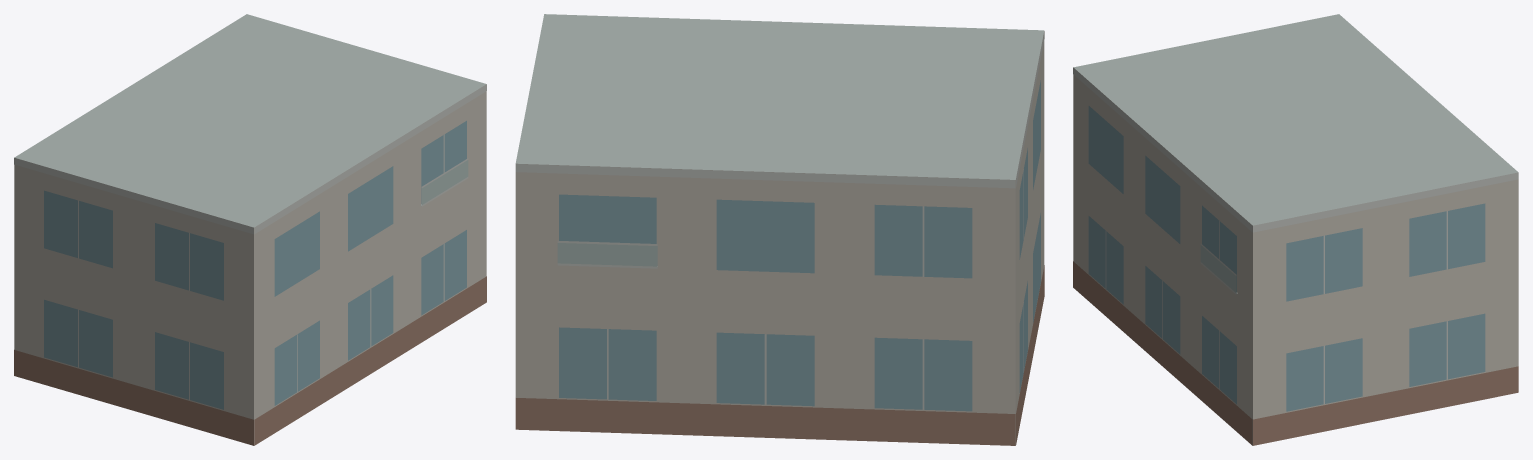
Rendered from survey-upis-32958675.glb.
3 views of the same model, side by side, from view 1: azimuth 30°, elevation 25°; view 2: azimuth 150°, elevation 25°; view 3: azimuth 270°, elevation 25° (orthographic). The views are drawn at different scales.
Visible parts, largest first — view 1: survey-upis-32958675.tmp; view 2: survey-upis-32958675.tmp; view 3: survey-upis-32958675.tmp.
Boxes of the visible parts, bbox=[...] form: survey-upis-32958675.tmp: bbox=[14, 14, 486, 445]; survey-upis-32958675.tmp: bbox=[515, 14, 1044, 445]; survey-upis-32958675.tmp: bbox=[1073, 14, 1518, 445].
Size of the model in its own units: 15.88 by 7.7 by 14.12.
